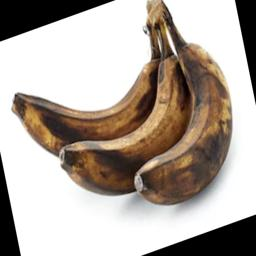Banana Rotten: (36, 32, 230, 210)
